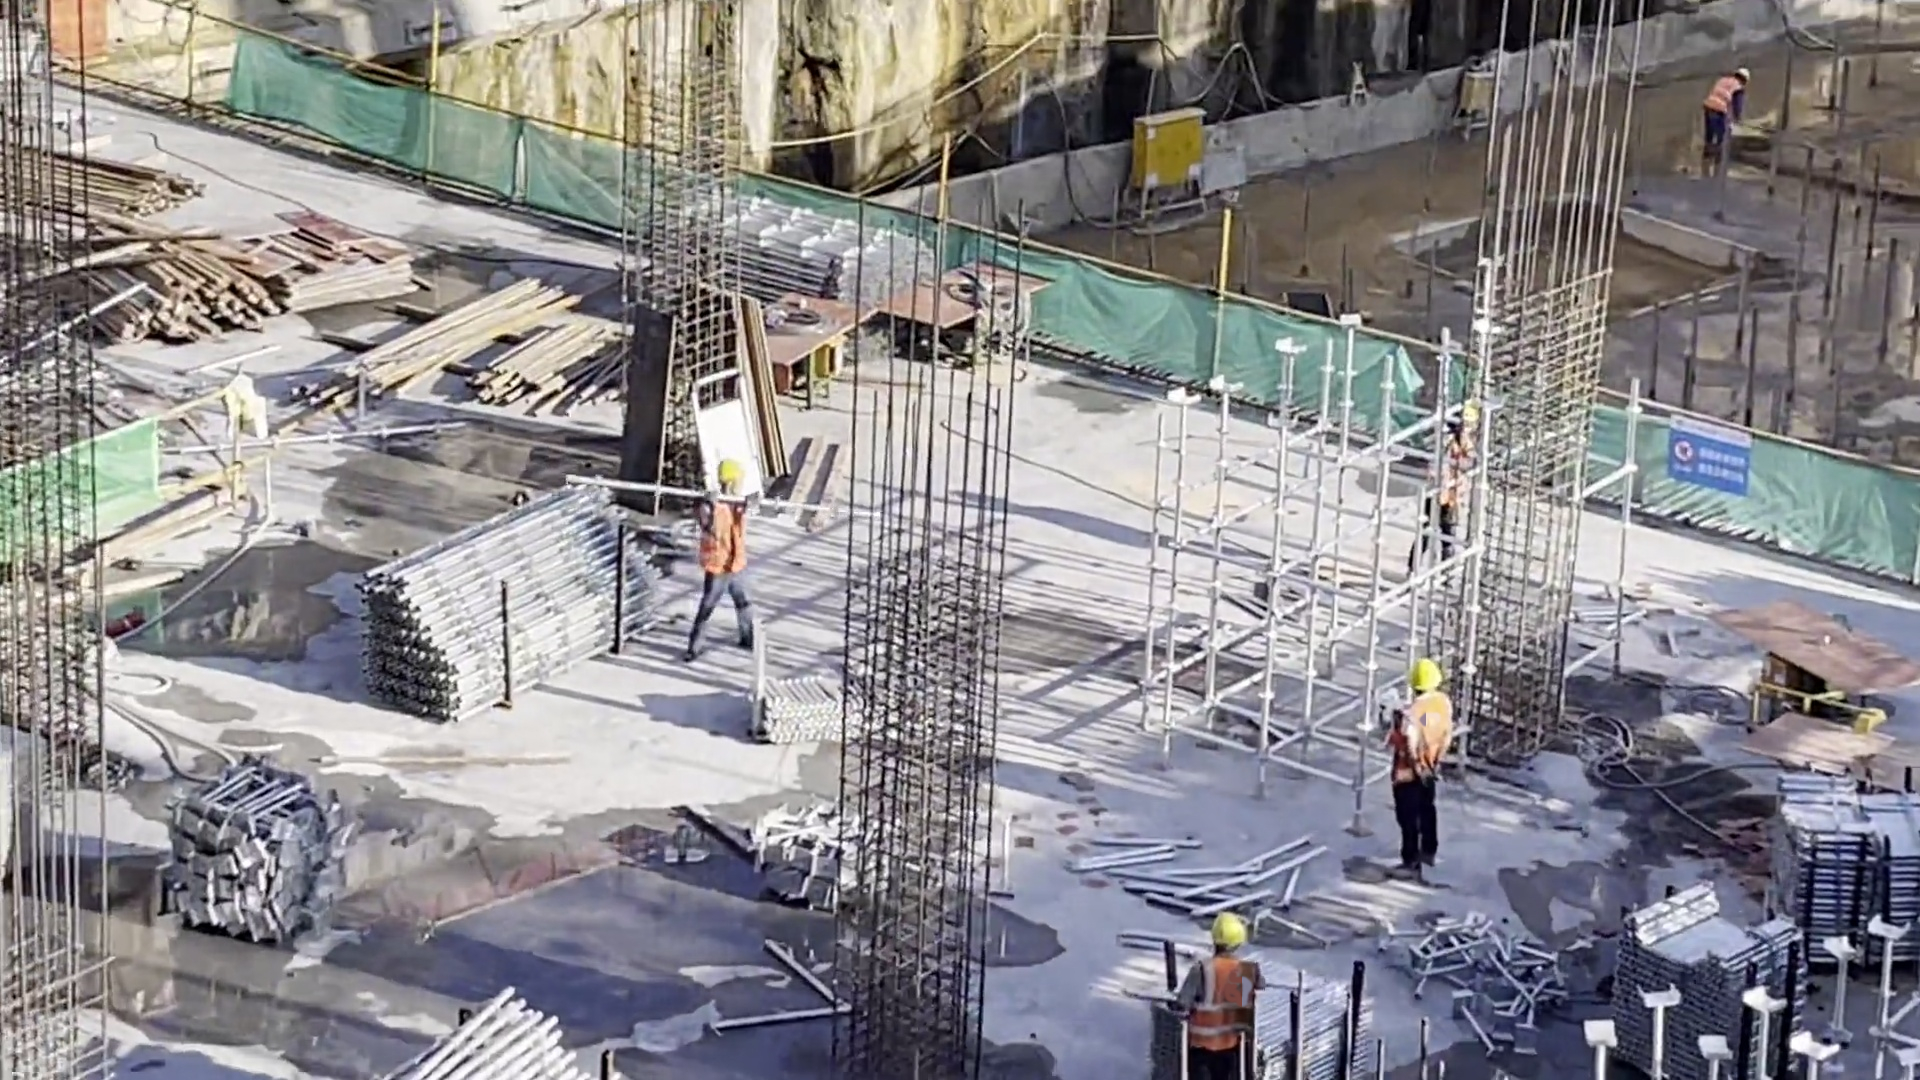board: (251, 224, 423, 296)
cutter: (1770, 705, 1920, 813), (1775, 588, 1895, 711), (889, 264, 1032, 349), (741, 306, 866, 396)
ebox: (1133, 120, 1223, 186)
helmet: (1197, 916, 1251, 955), (1409, 659, 1445, 688), (716, 463, 748, 493), (1737, 67, 1756, 80)
person: (1385, 656, 1468, 889), (1163, 913, 1261, 1080), (689, 463, 763, 664), (1409, 406, 1478, 598), (1699, 63, 1745, 182)
scaffold: (388, 496, 659, 676), (1624, 883, 1773, 1080), (672, 173, 879, 313), (1170, 947, 1360, 1080), (1763, 787, 1901, 957), (397, 991, 608, 1080), (751, 668, 859, 756)
slogan: (1669, 423, 1748, 494)
vest: (1181, 960, 1252, 1055), (1399, 699, 1445, 789), (697, 499, 749, 577)
wood: (311, 288, 524, 403), (84, 233, 261, 345), (1, 140, 163, 208), (480, 321, 580, 401)
